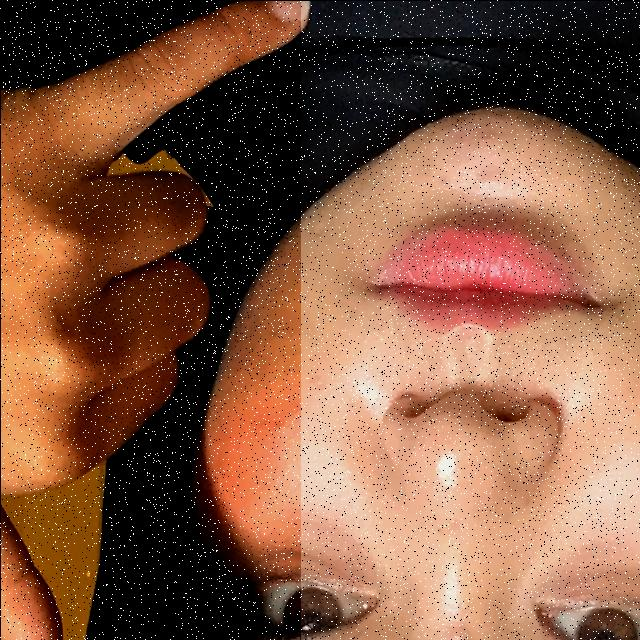telpon: (0, 0, 300, 640)
